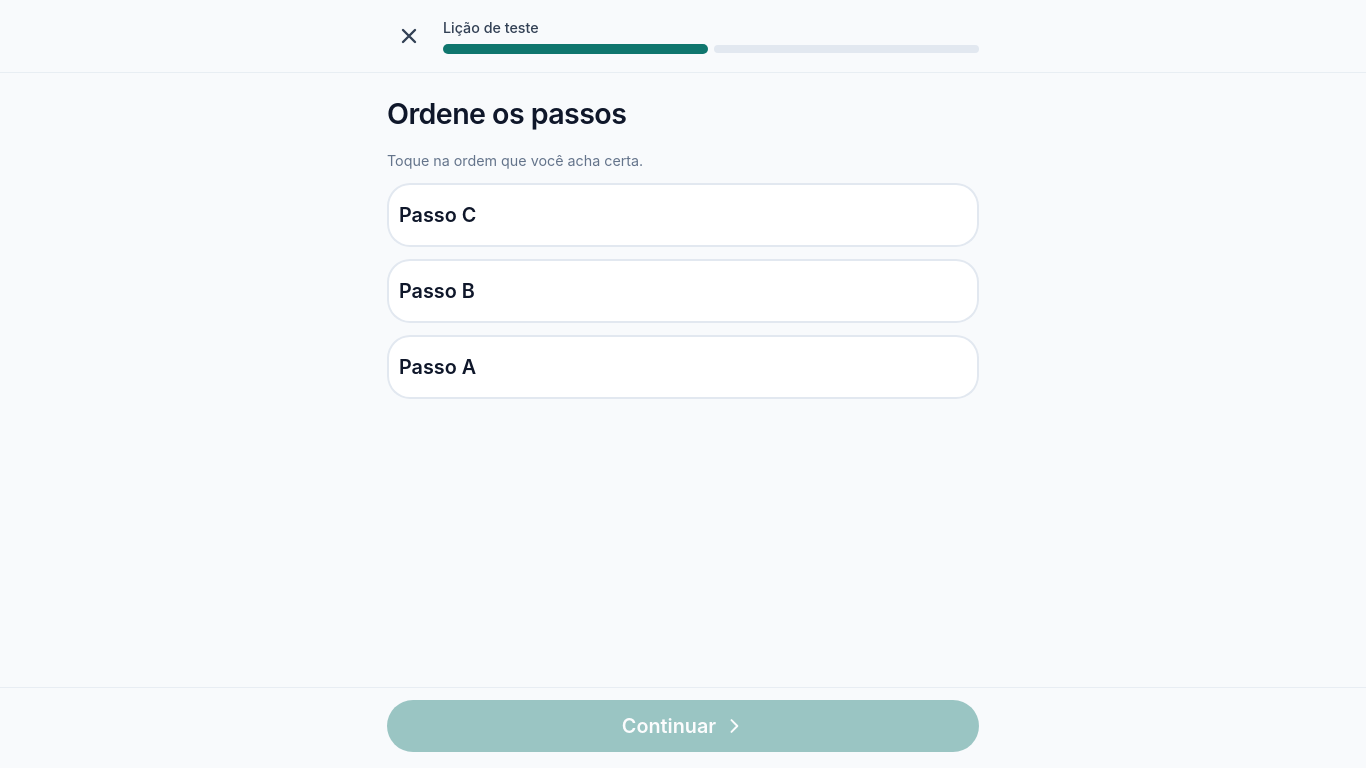
Test: ordering: seleção e ordenação reversíveis antes da confirmação › readicionar o item removido vai para o fim da sequência e permite confirmar de novo
Step 1. Click the button "Passo A" → (438, 367), box x1=387 y1=335 x2=979 y2=399
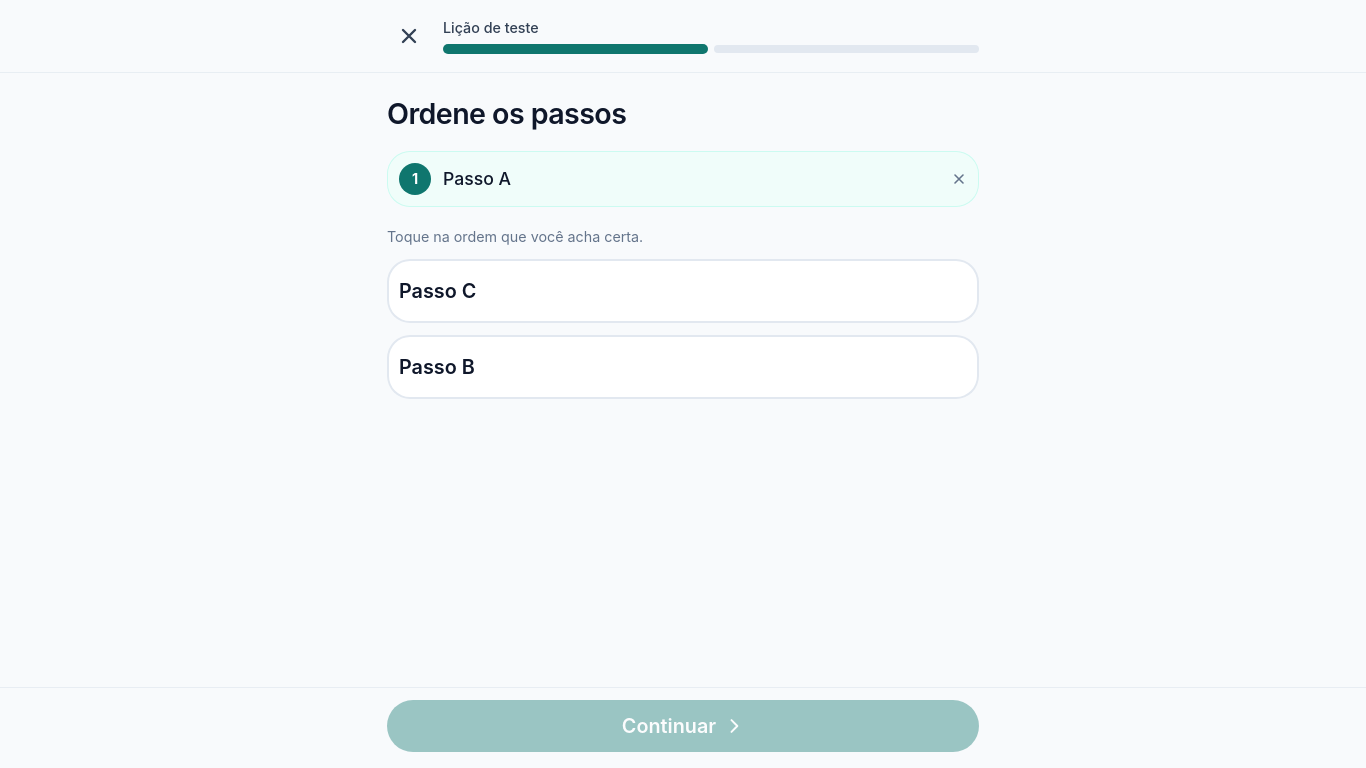
Step 2. Click the button "Passo B" → (437, 367), box x1=387 y1=335 x2=979 y2=399
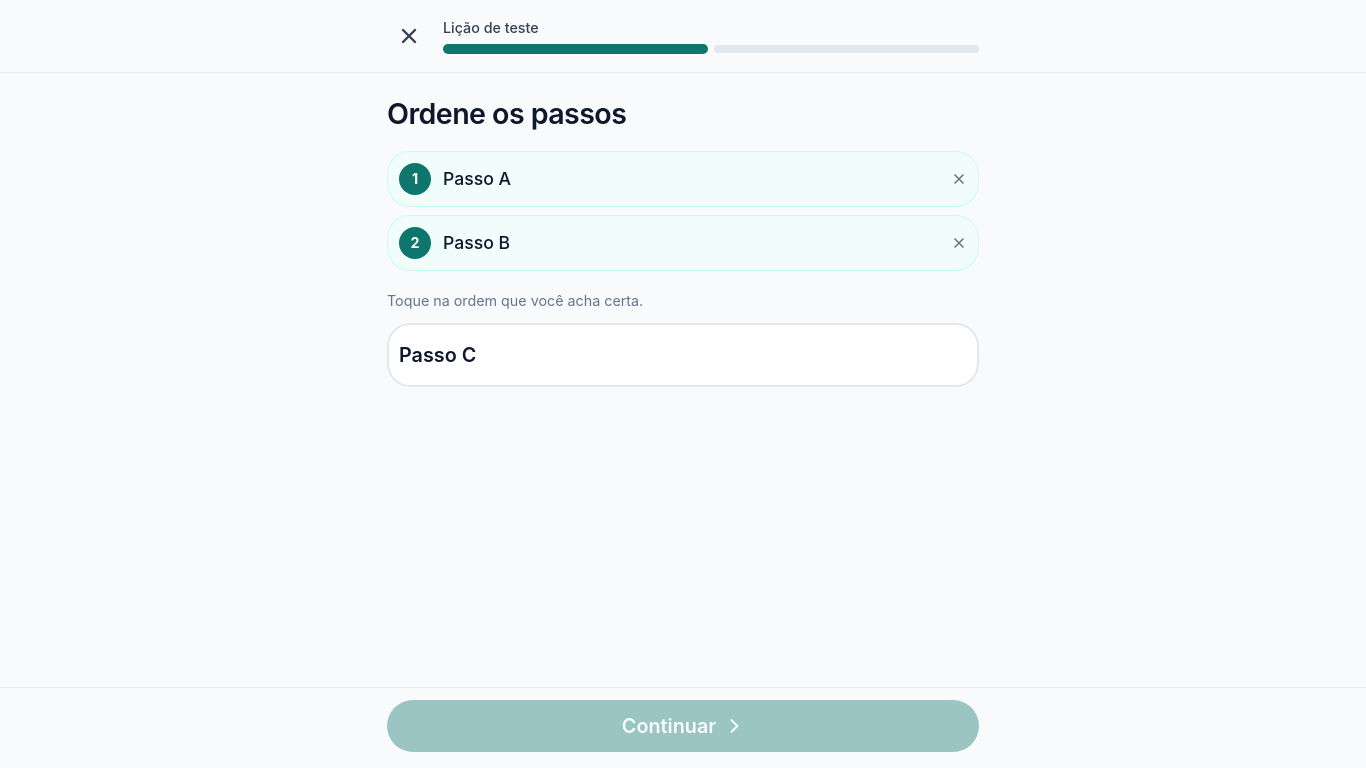
Step 3. Click the button "Passo C" → (438, 355), box x1=387 y1=323 x2=979 y2=387
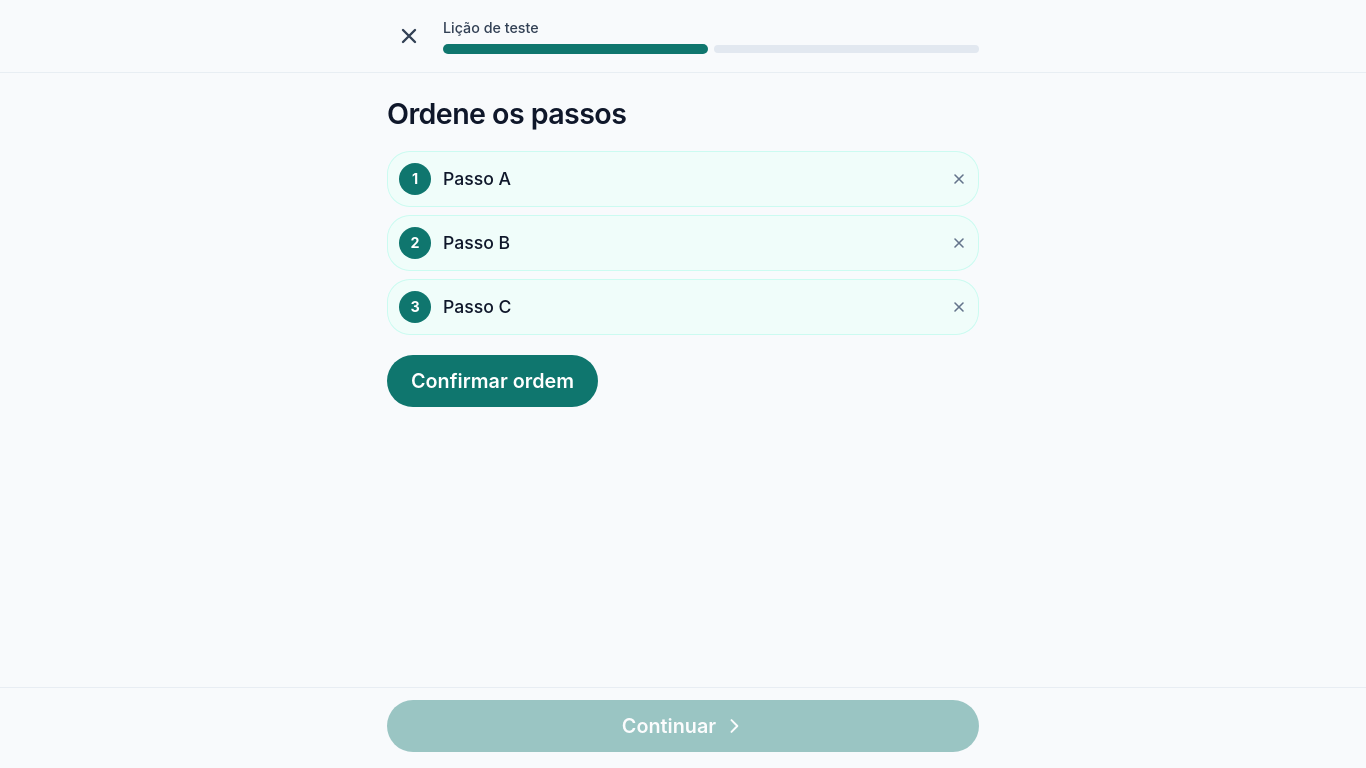
Step 4. Click the button with aria-label "Retirar Passo B" → (415, 243), box x1=387 y1=215 x2=979 y2=271
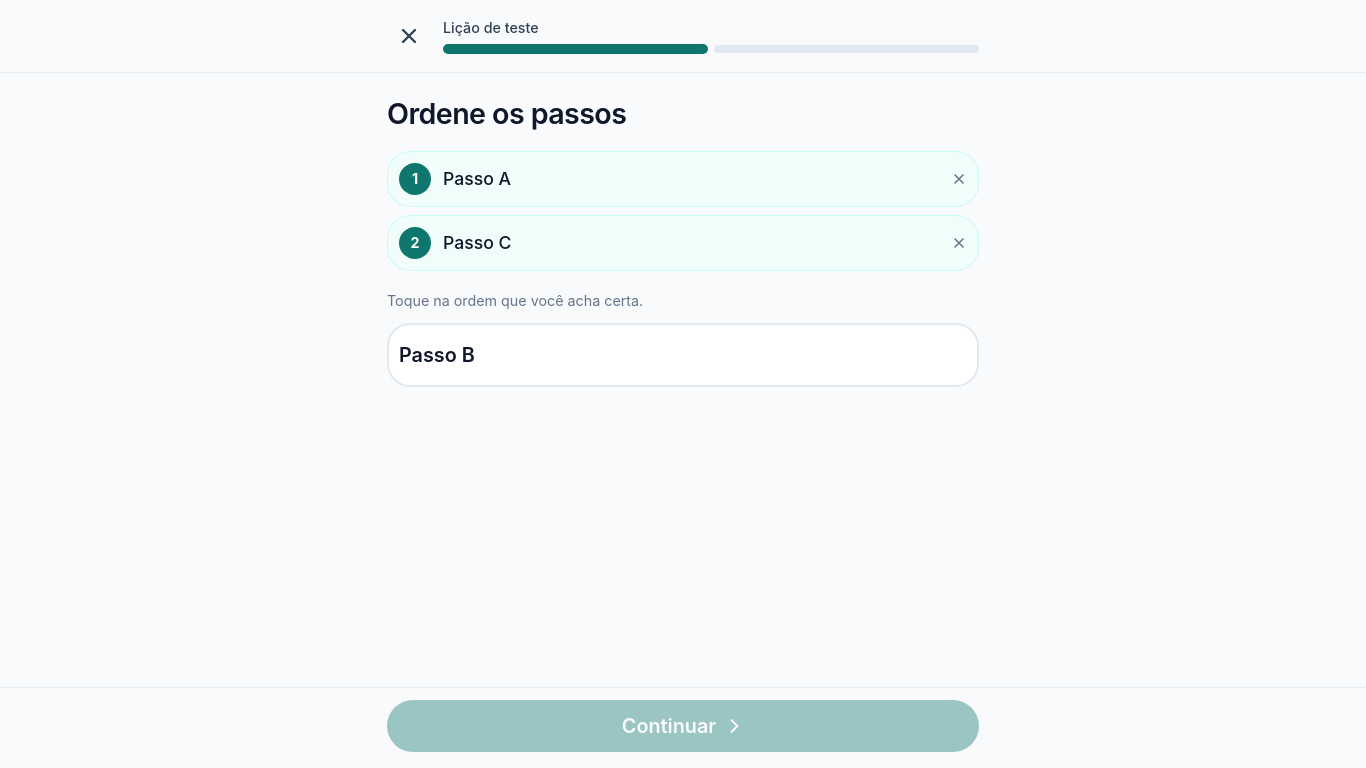
Step 5. Click the button "Passo B" → (437, 355), box x1=387 y1=323 x2=979 y2=387
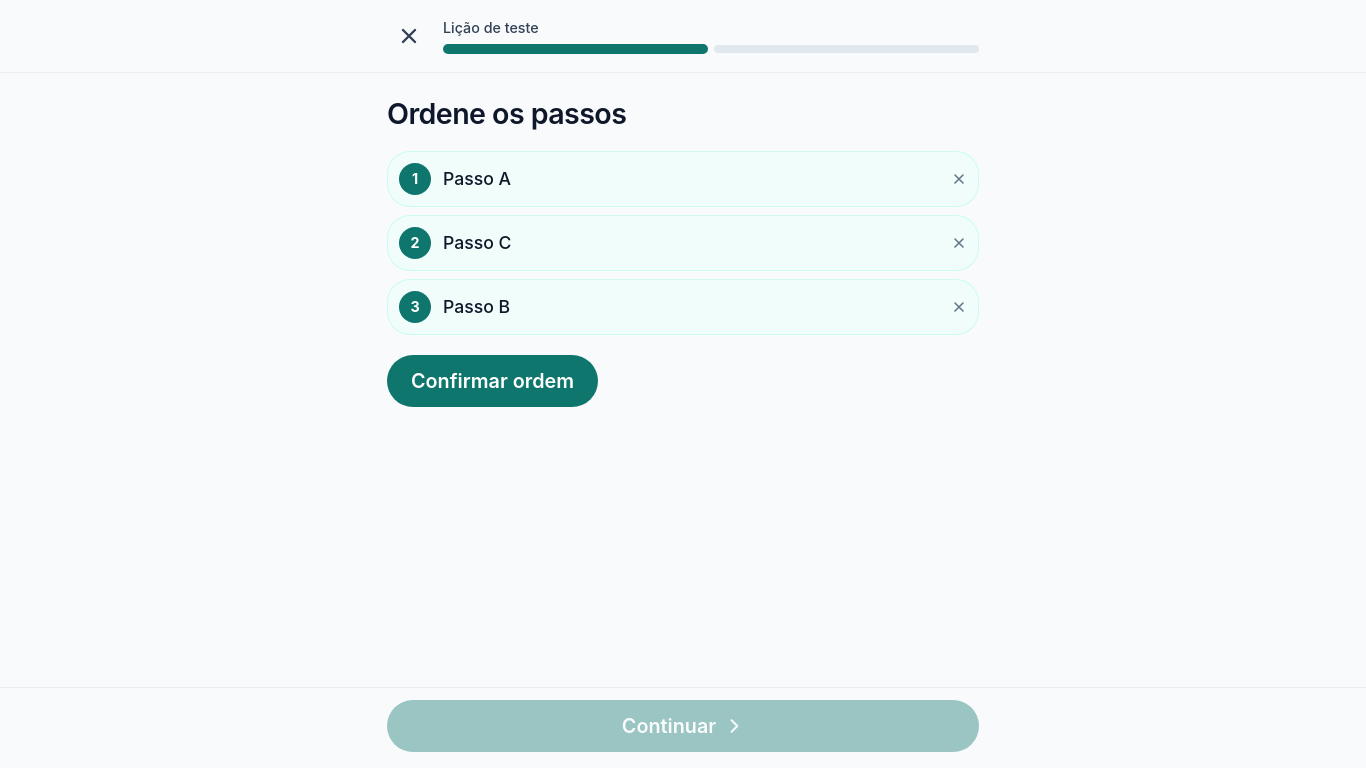
Expected: the button "Continuar" is disabled, x1=387 y1=700 x2=979 y2=752
Result: the button "Confirmar ordem" is shown at x1=387 y1=355 x2=598 y2=407
